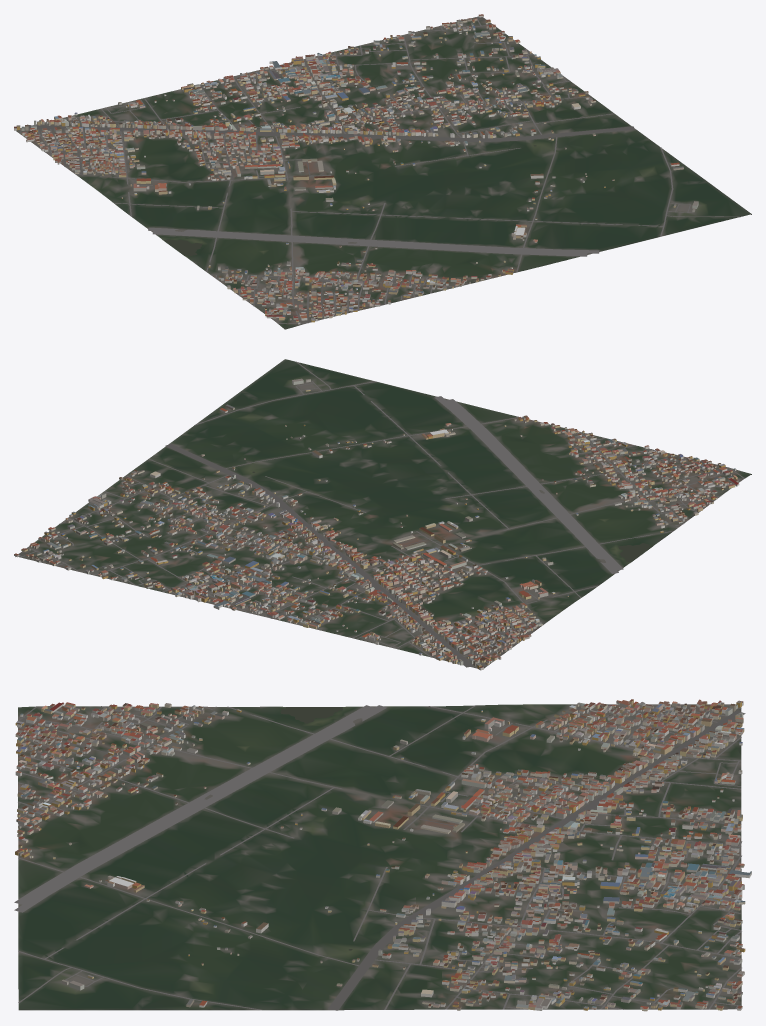
3 views of the same model, one above another, from view 1: azimuth 30°, elevation 25°; view 2: azimuth 150°, elevation 25°; view 3: azimuth 270°, elevation 25° (orthographic). The views are drawn at different scales.
Parts seen in each view (by area): view 1: ground, buildings, roads; view 2: ground, buildings, roads; view 3: ground, buildings, roads, water.
Boxes of the visible parts, bbox=[...] form: ground: bbox=[16, 16, 751, 329]; buildings: bbox=[14, 14, 698, 324]; roads: bbox=[20, 17, 740, 323]; ground: bbox=[15, 359, 751, 668]; buildings: bbox=[14, 378, 739, 670]; roads: bbox=[19, 361, 744, 668]; ground: bbox=[18, 704, 741, 1010]; buildings: bbox=[15, 699, 751, 1011]; roads: bbox=[14, 704, 745, 1010]; water: bbox=[280, 707, 352, 950].
Bounding box in the file's own units: 1416 × 21.82 × 1430.
